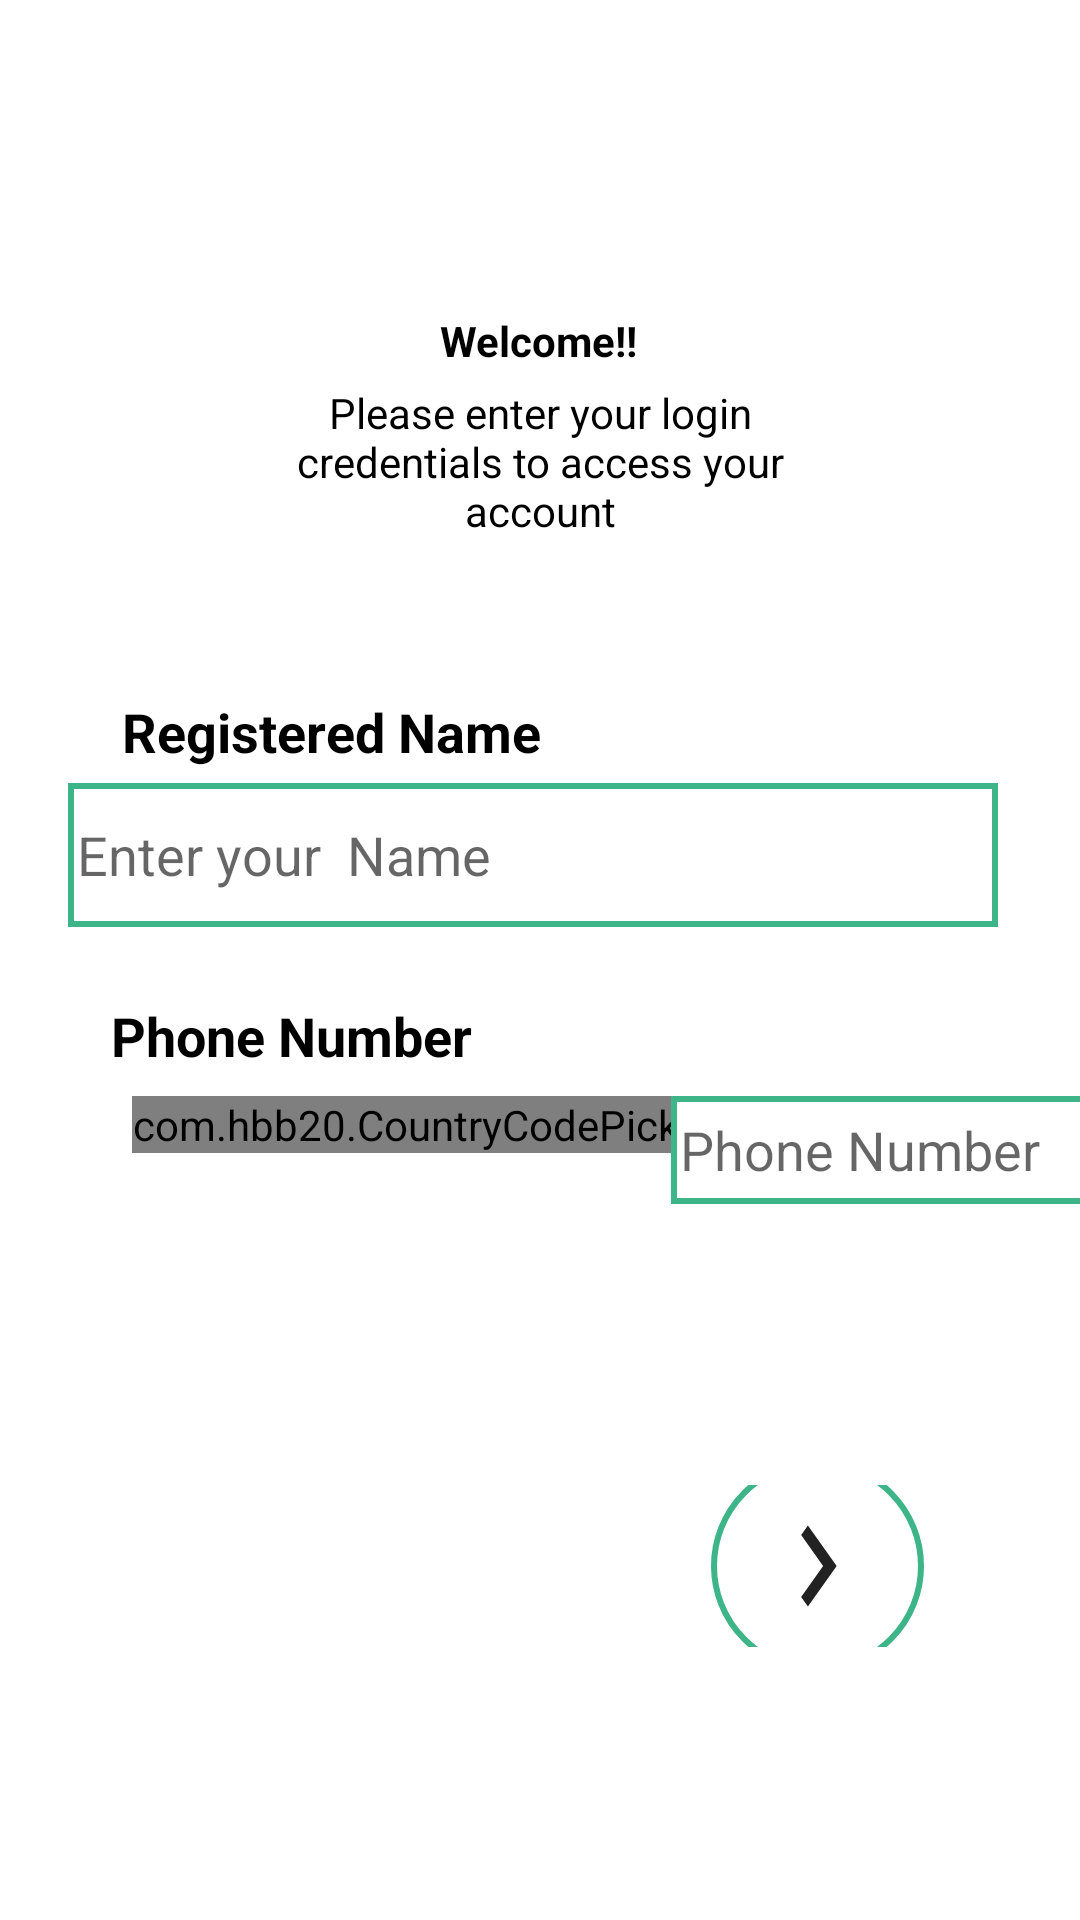

Locate icon controls on the screen. Image size 1080 x 1920, boxes as box(x1, y1, x2, y2).
navigate next: box(711, 1485, 924, 1647)
